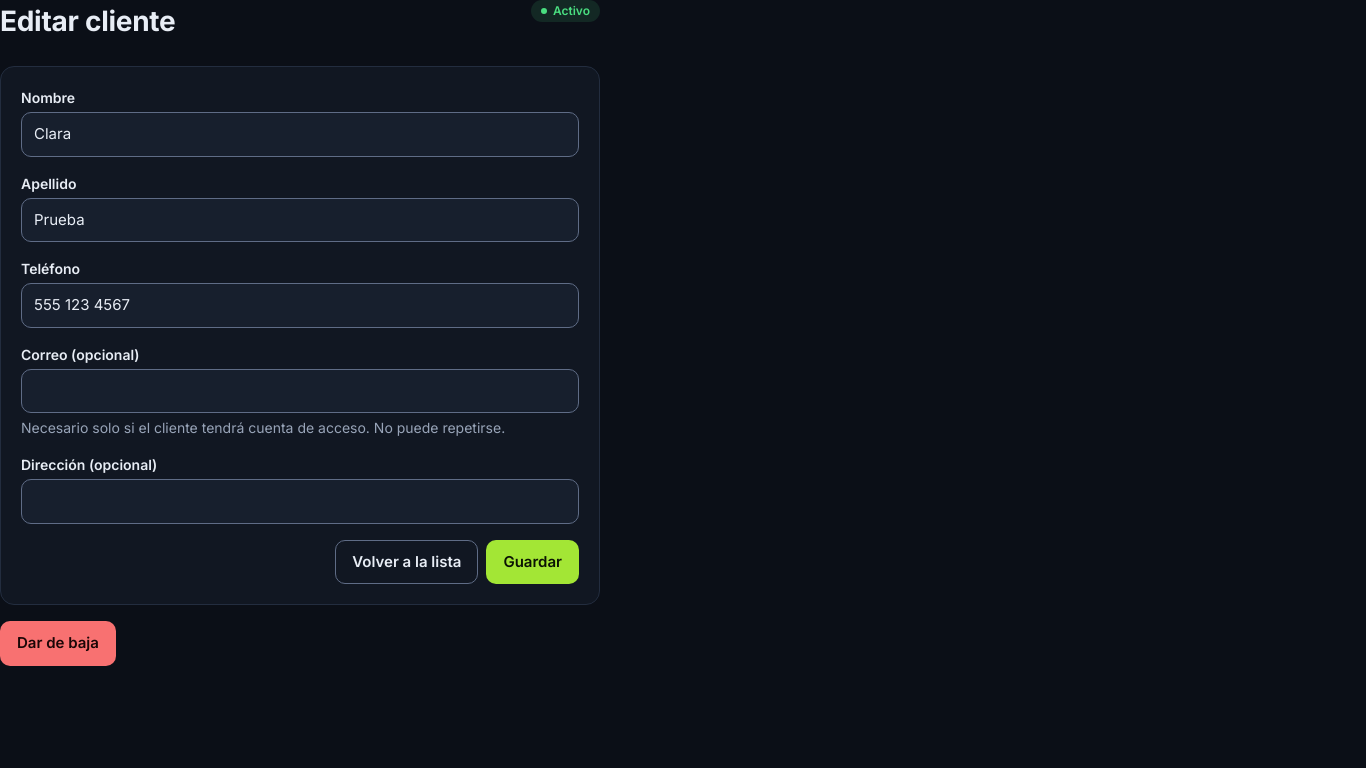
Pantallas con componentes comunes › ClienteForm › la baja pide confirmación: cancelar no cambia nada y confirmar la aplica con un aviso
The image size is (1366, 768).
Click the button "Dar de baja" at [58, 643], box [0, 621, 116, 666]
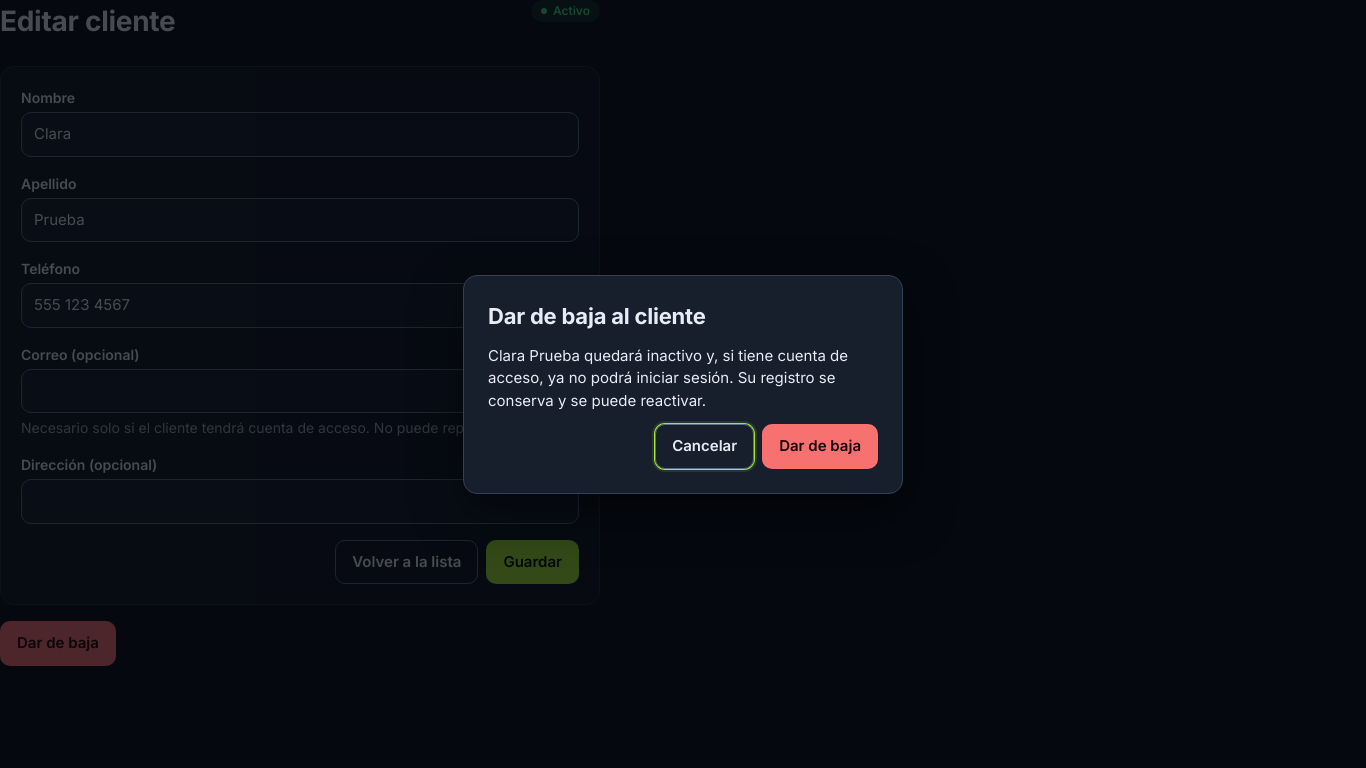
Click the button "Cancelar" at [705, 446], box [655, 424, 754, 468]
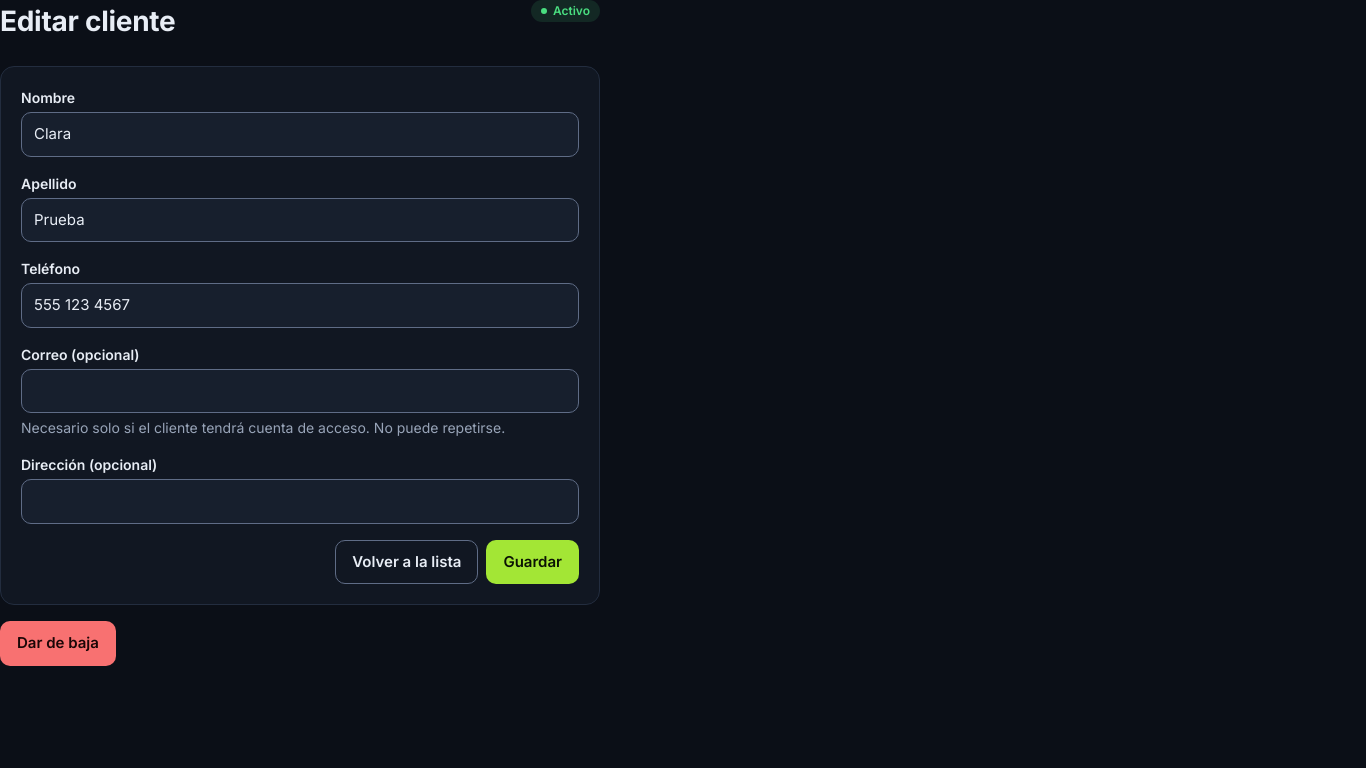
Result: the dialog is gone
Click the button "Dar de baja" at [58, 643], box [0, 621, 116, 666]
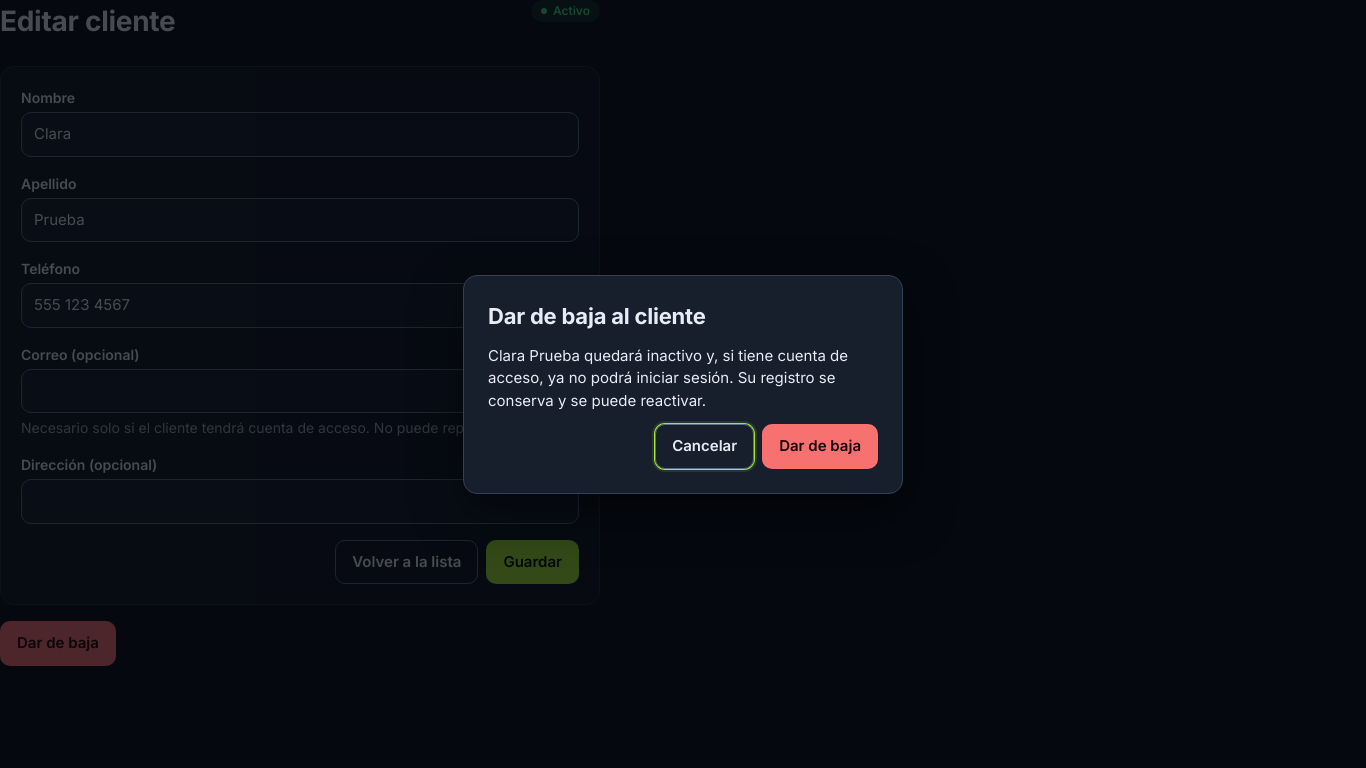
Click the button "Dar de baja" at [820, 446], box [762, 424, 878, 468]
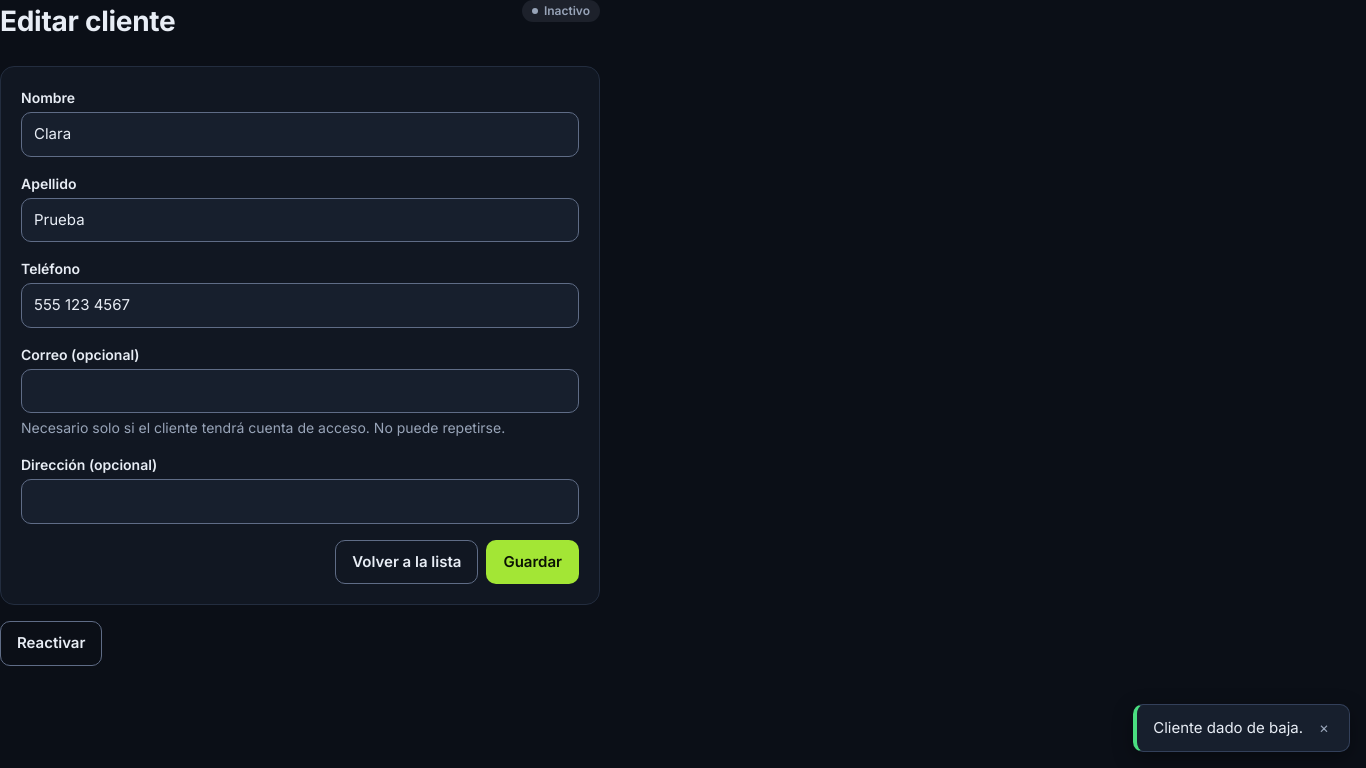
Result: the text "Cliente dado de baja." is shown at [1153, 716, 1303, 739]
Result: the button "Reactivar" is shown at [0, 621, 102, 666]
